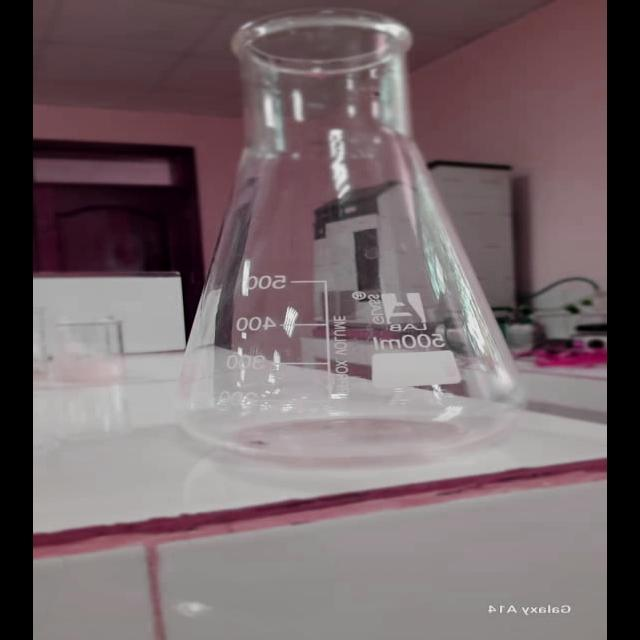Conical Flask: (147, 6, 524, 452)
